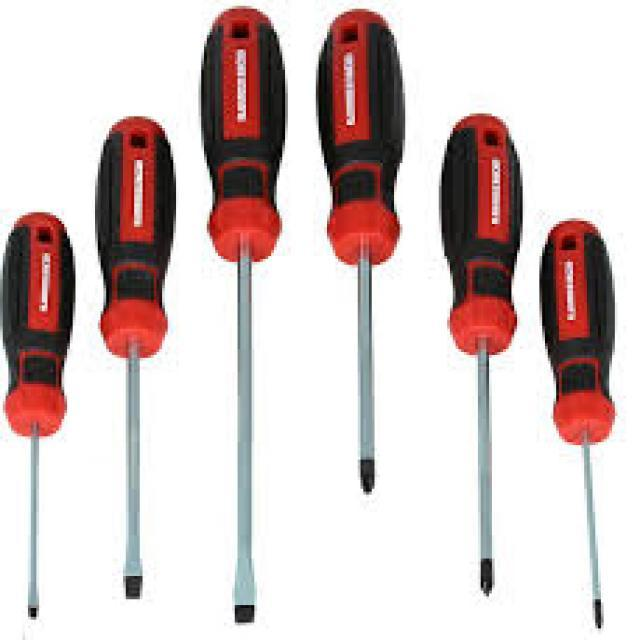screwdriver: (76, 104, 180, 616), (308, 0, 412, 509), (438, 96, 528, 602), (538, 208, 633, 639), (0, 199, 78, 623)
